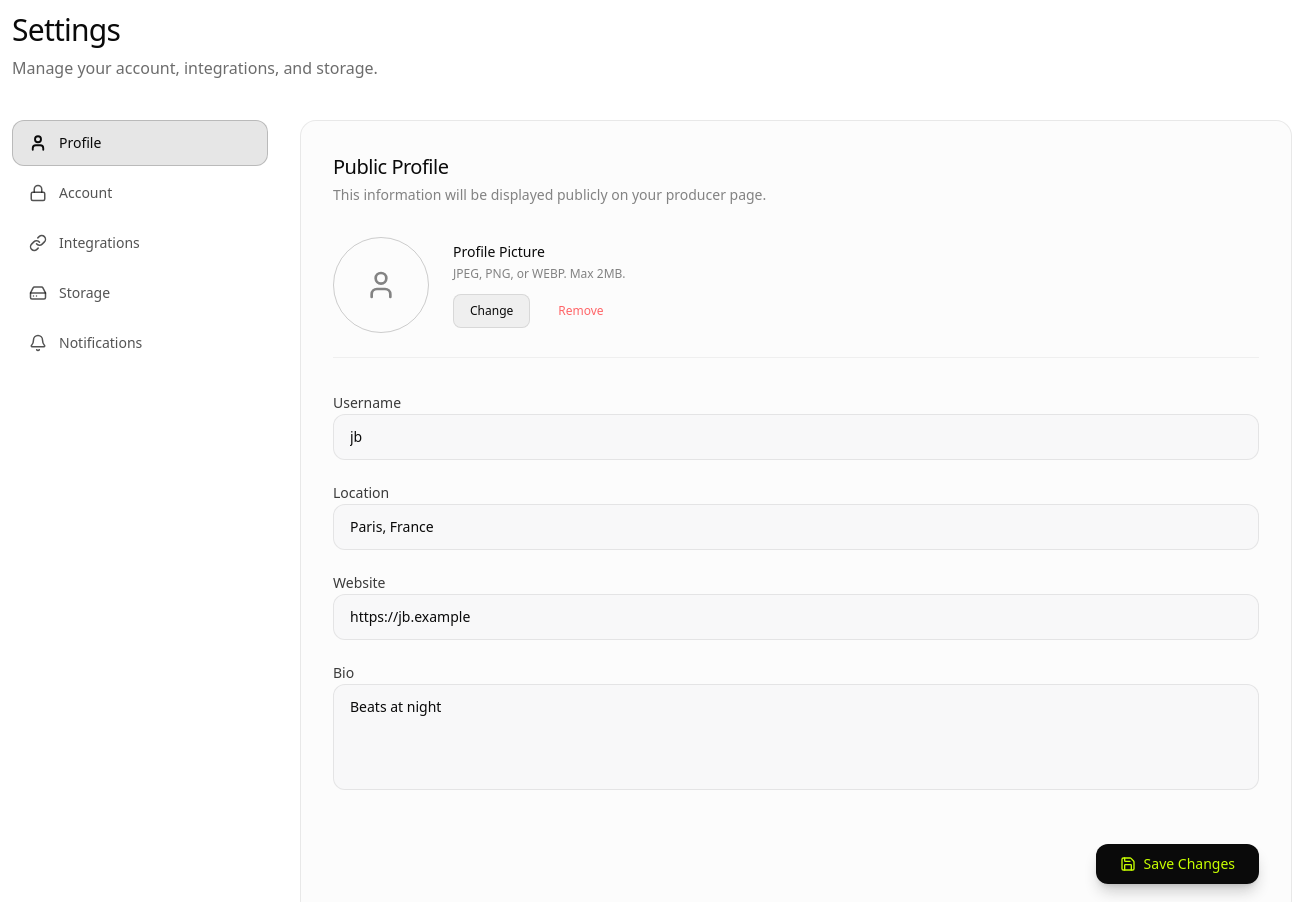
it: SettingsPage account tab › shows the backend's message for a wrong current password
Click the button "Account".
click(140, 193)  # box x1=12 y1=170 x2=268 y2=216
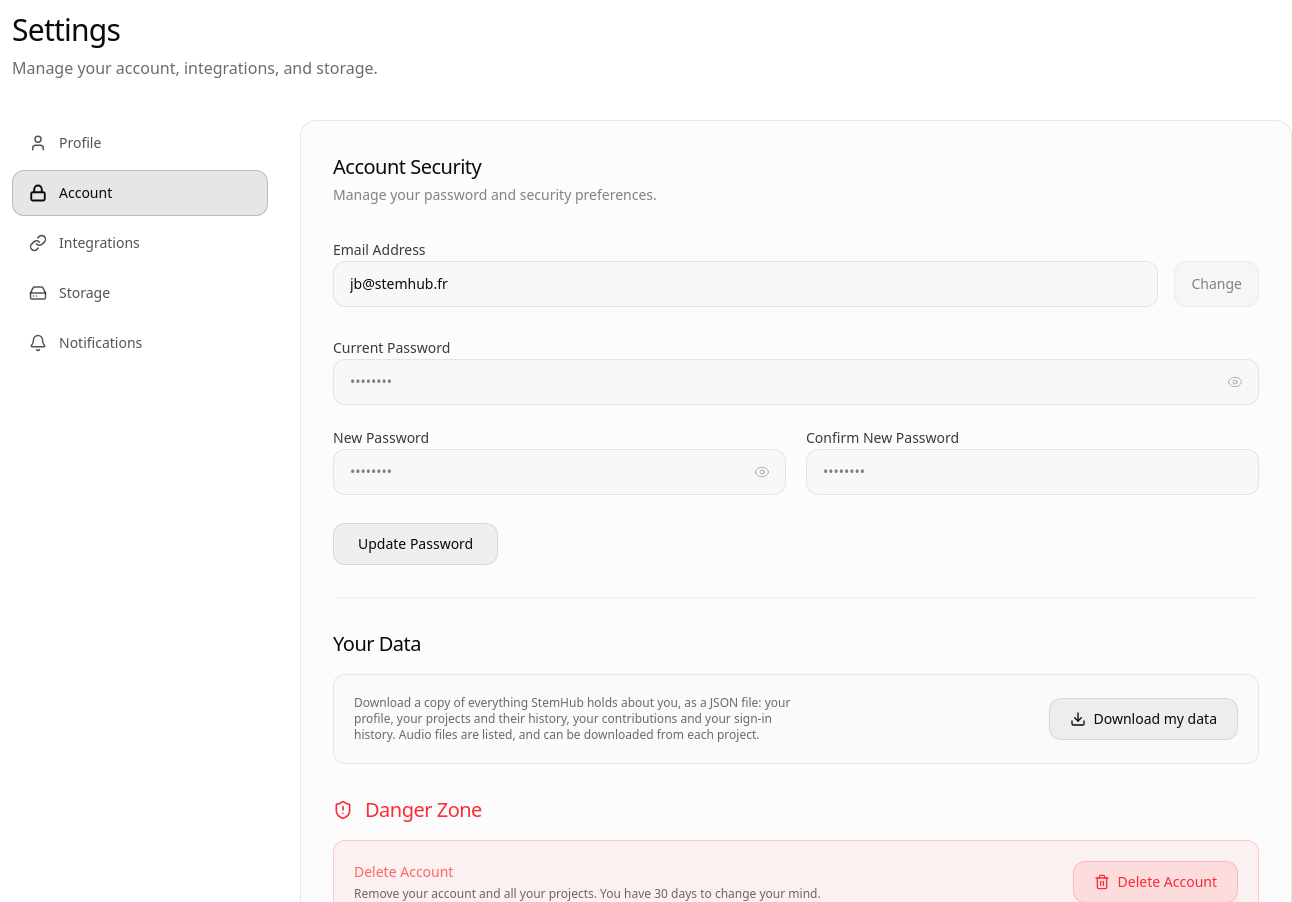
Now the password field labelled "Current Password" is shown
Type "wrong" into the password field labelled "Current Password".
click(796, 382); type("wrong")  # box x1=333 y1=359 x2=1259 y2=405
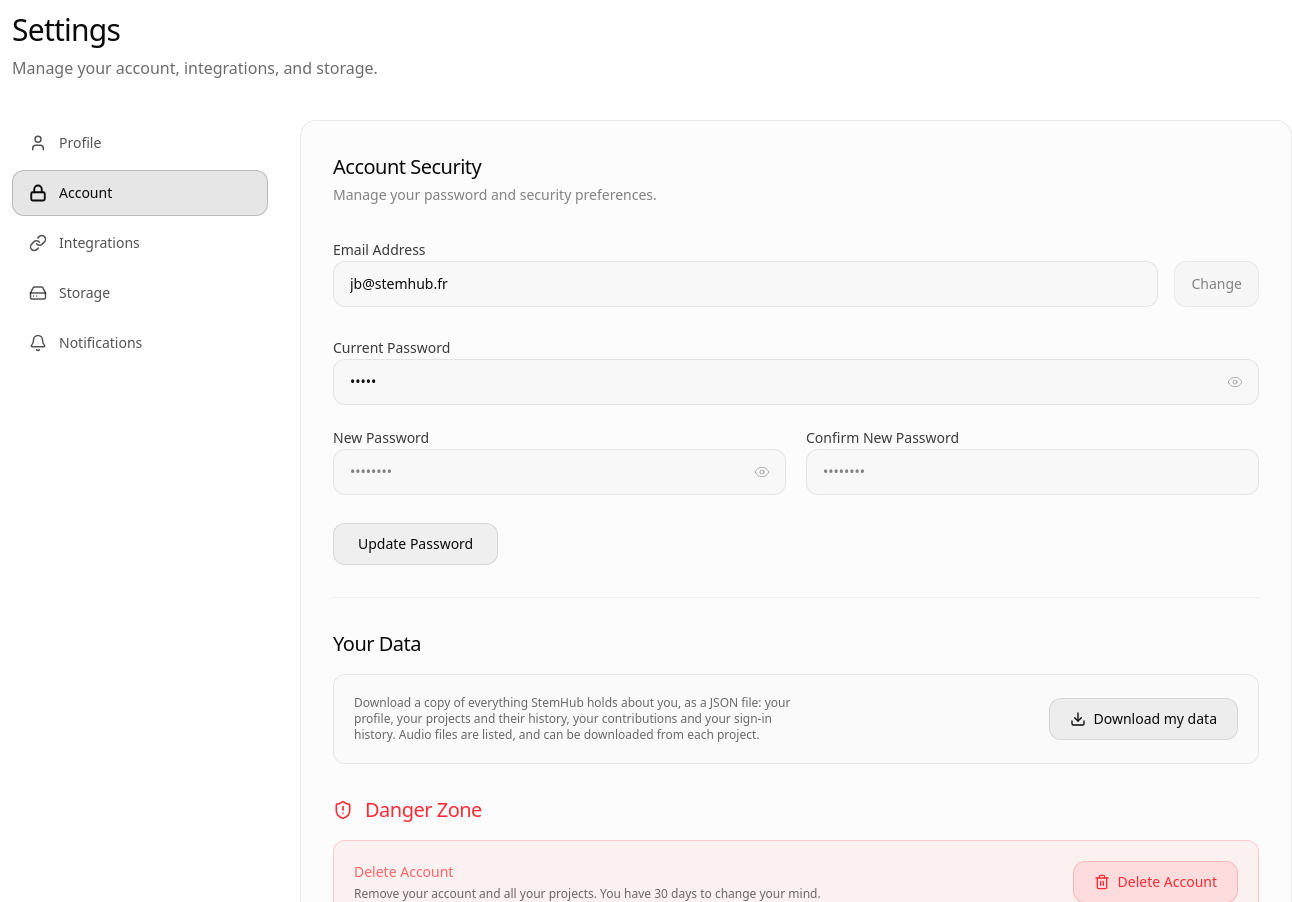
Type "new-secret" into the password field labelled "New Password".
click(560, 472); type("new-secret")  # box x1=333 y1=449 x2=786 y2=495
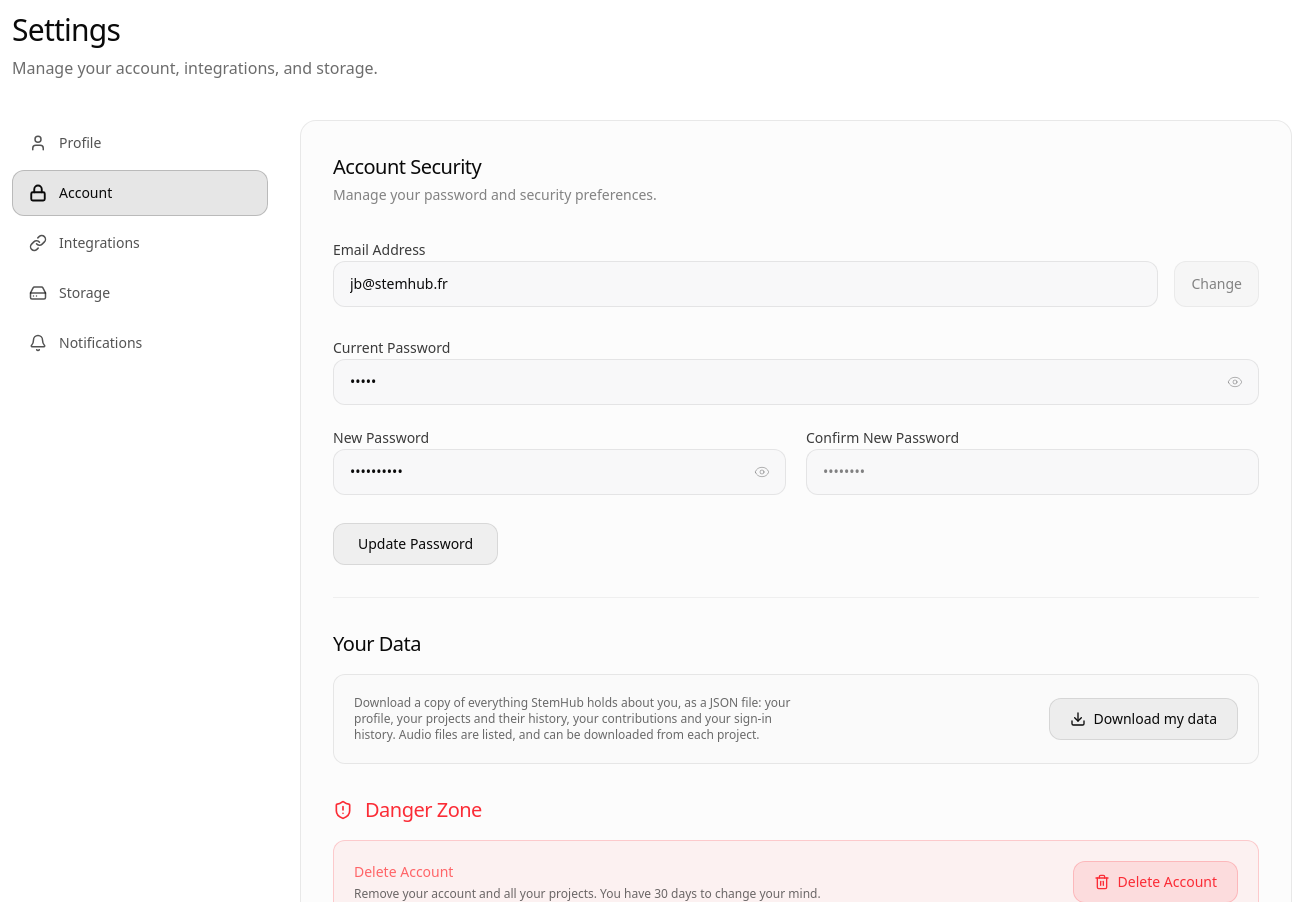
Type "new-secret" into the password field labelled "Confirm New Password".
click(1032, 472); type("new-secret")  # box x1=806 y1=449 x2=1259 y2=495
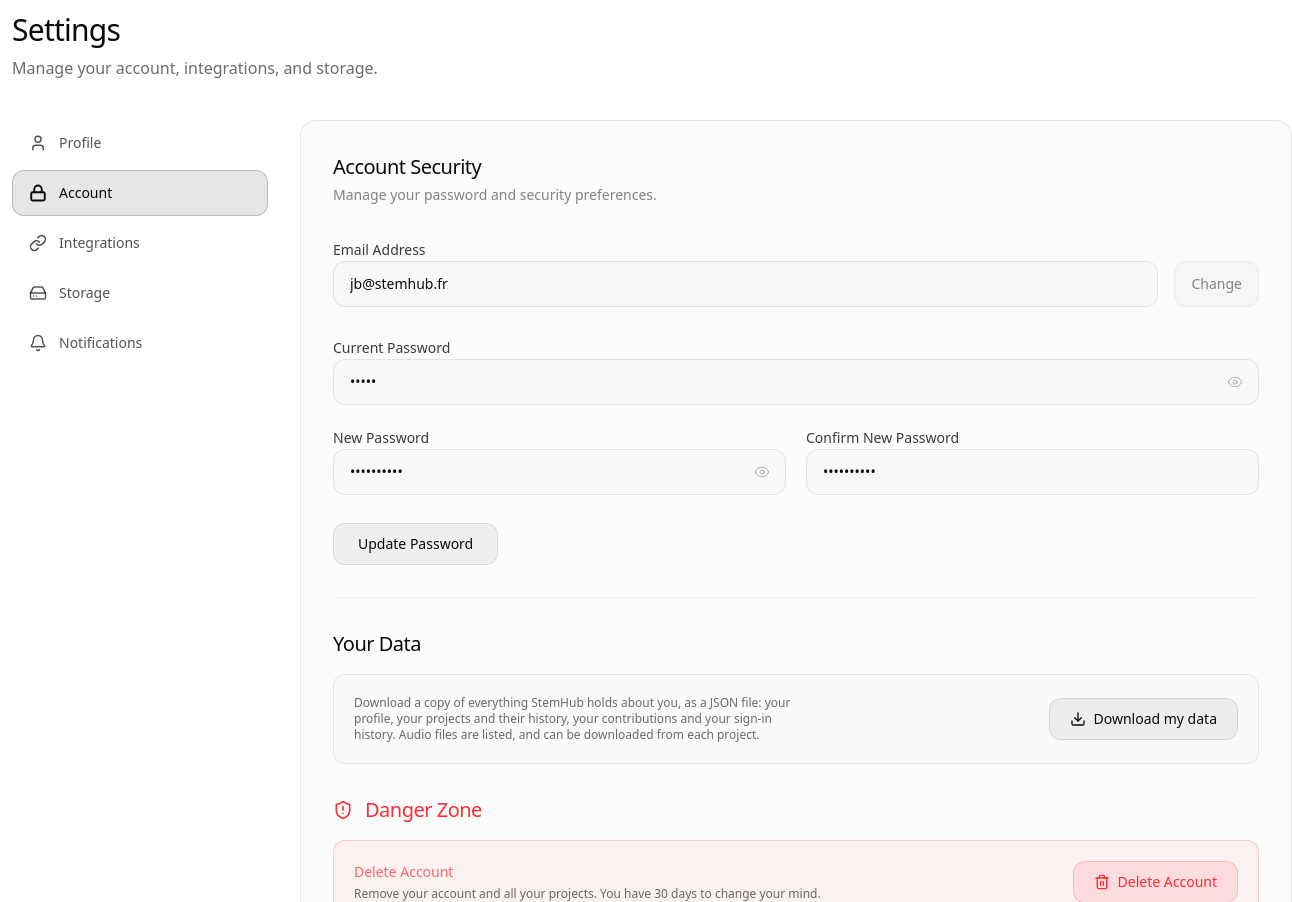
Click the button "Update Password".
click(416, 544)  # box x1=333 y1=523 x2=498 y2=565
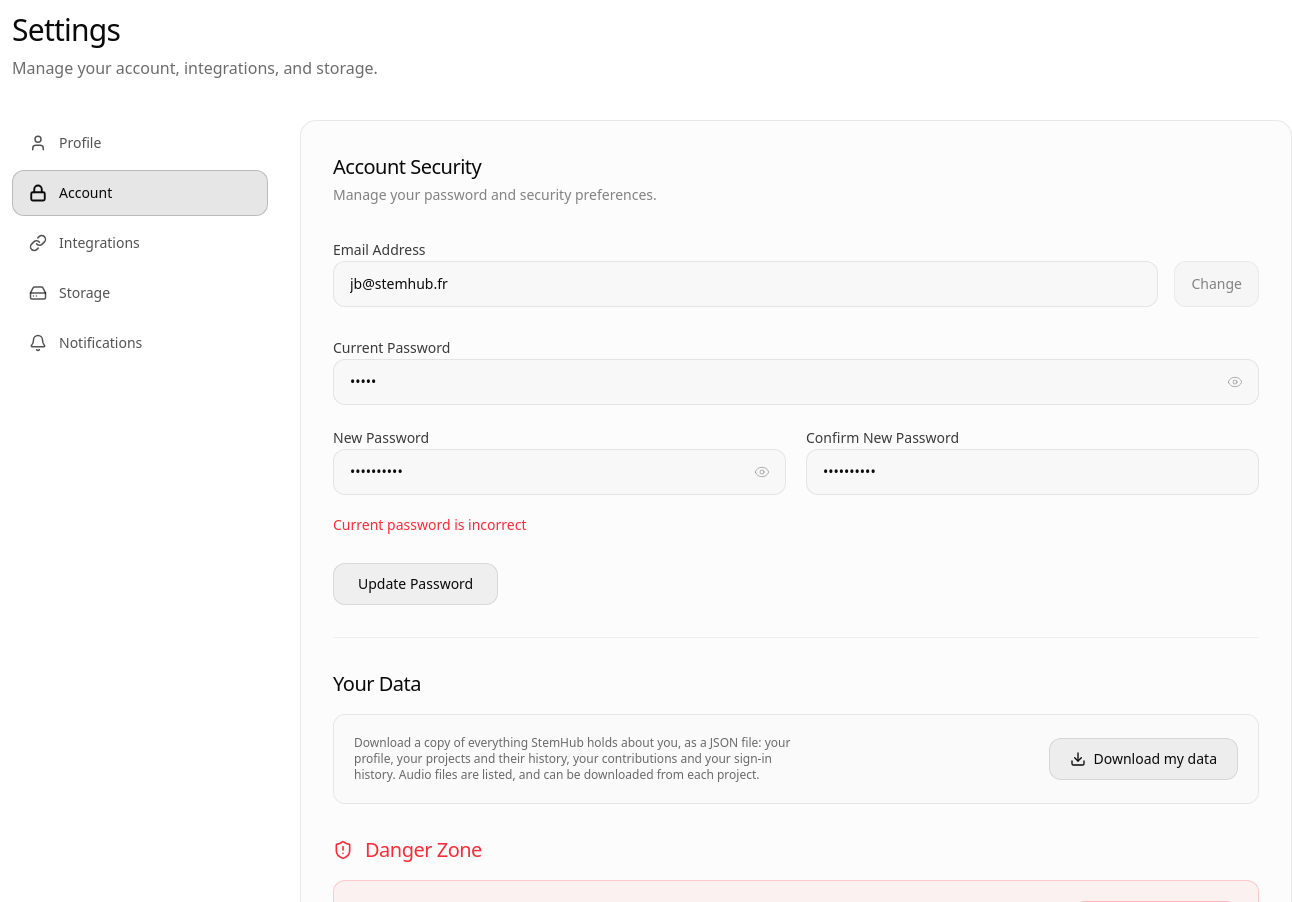
Now the message reads "Current password is incorrect", box x1=333 y1=515 x2=526 y2=534
